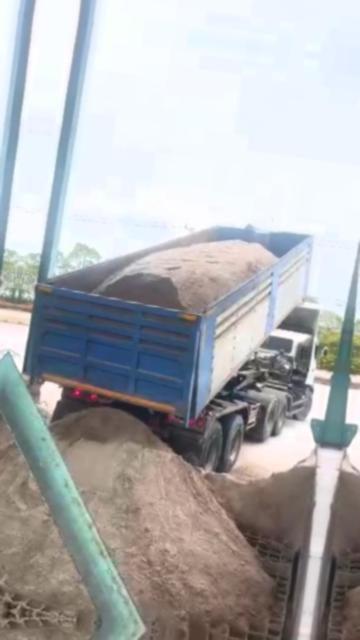sand: (51, 408, 271, 636), (0, 444, 92, 620), (93, 240, 277, 312), (207, 454, 315, 548), (0, 413, 9, 446)
